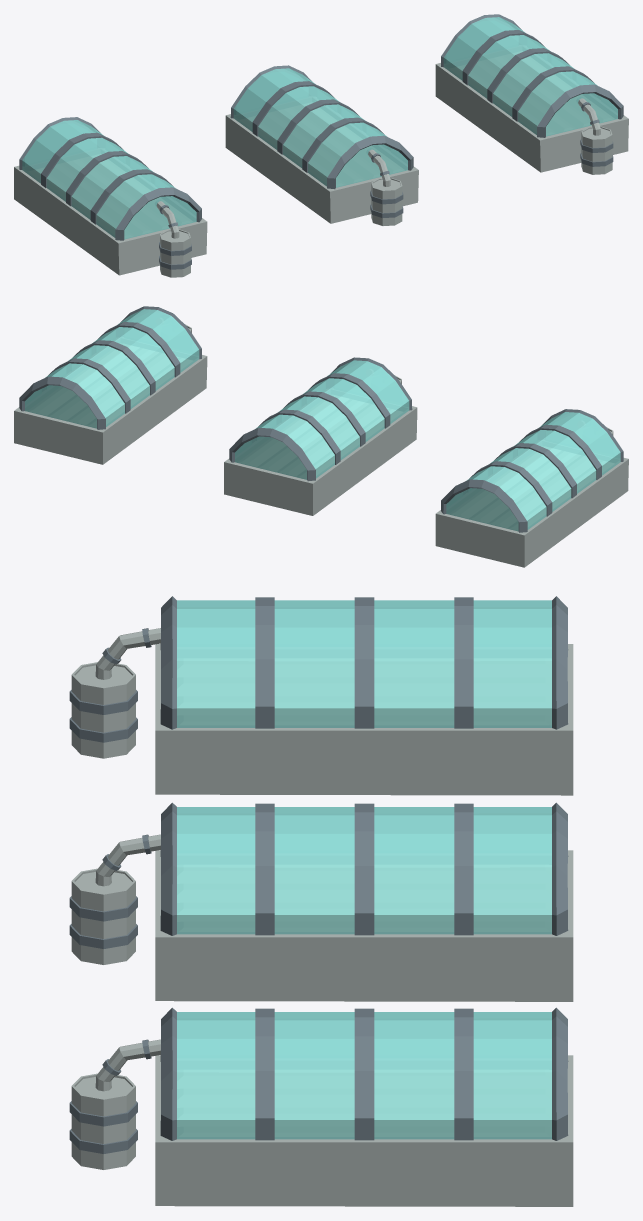
Rendered from GardenBed_3 2.fbx.
3 views of the same model, one above another, from view 1: azimuth 30°, elevation 25°; view 2: azimuth 150°, elevation 25°; view 3: azimuth 270°, elevation 25° (orthographic). The views are drawn at different scales.
Visible parts, largest first — view 1: GreenHouse1.004, GreenHouse1.002, GreenHouse1.006, GreenHouse1.003, GreenHouse1, GreenHouse1.005; view 2: GreenHouse1.004, GreenHouse1.006, GreenHouse1.002, GreenHouse1.005, GreenHouse1.003, GreenHouse1; view 3: GreenHouse1.002, GreenHouse1.004, GreenHouse1.006, GreenHouse1.003, GreenHouse1, GreenHouse1.005.
Part boxes in pixels (left/top/right/bottom): GreenHouse1.004: left=230, top=65, right=413, bottom=225; GreenHouse1.002: left=441, top=14, right=623, bottom=174; GreenHouse1.006: left=19, top=117, right=201, bottom=277; GreenHouse1.003: left=225, top=114, right=418, bottom=223; GreenHouse1: left=435, top=63, right=628, bottom=172; GreenHouse1.005: left=14, top=165, right=207, bottom=275; GreenHouse1.004: left=229, top=357, right=412, bottom=481; GreenHouse1.006: left=441, top=409, right=623, bottom=532; GreenHouse1.002: left=19, top=306, right=201, bottom=429; GreenHouse1.005: left=435, top=458, right=628, bottom=567; GreenHouse1.003: left=224, top=406, right=417, bottom=515; GreenHouse1: left=14, top=355, right=207, bottom=464; GreenHouse1.002: left=69, top=1007, right=568, bottom=1169; GreenHouse1.004: left=69, top=802, right=568, bottom=964; GreenHouse1.006: left=69, top=596, right=568, bottom=758; GreenHouse1.003: left=155, top=850, right=573, bottom=1001; GreenHouse1: left=155, top=1055, right=573, bottom=1206; GreenHouse1.005: left=155, top=644, right=573, bottom=795.
Size of the model in its own units: 1148 by 158 by 490.
